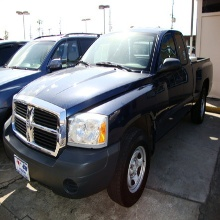no damage: (3, 27, 214, 208), (1, 31, 98, 109)
